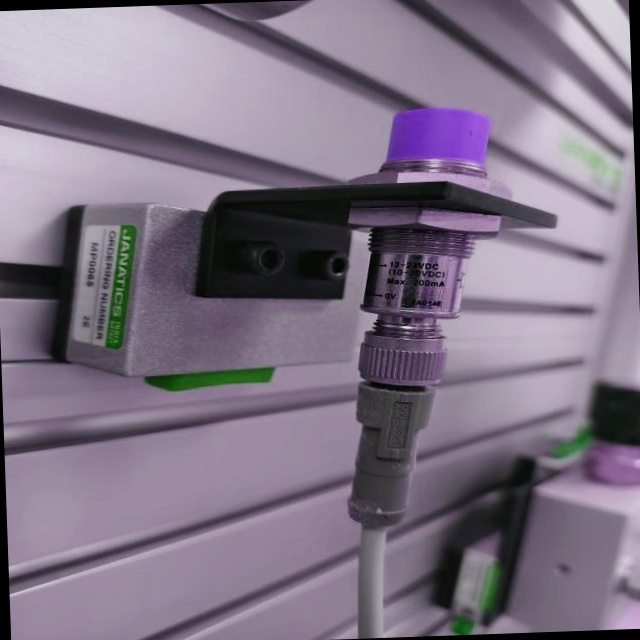inductive sensor: (55, 90, 573, 541)
